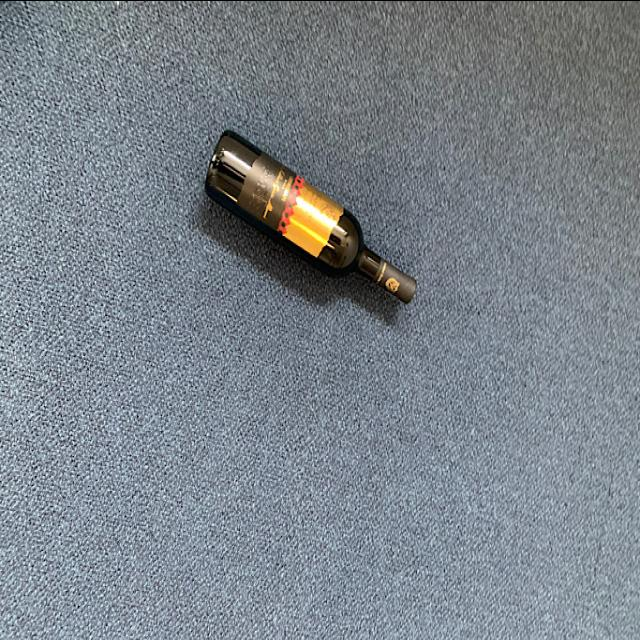litter: (203, 126, 423, 306)
